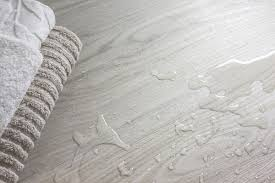Wet-floor: (46, 102, 140, 183), (166, 113, 271, 176), (105, 28, 191, 91), (191, 50, 265, 114)
